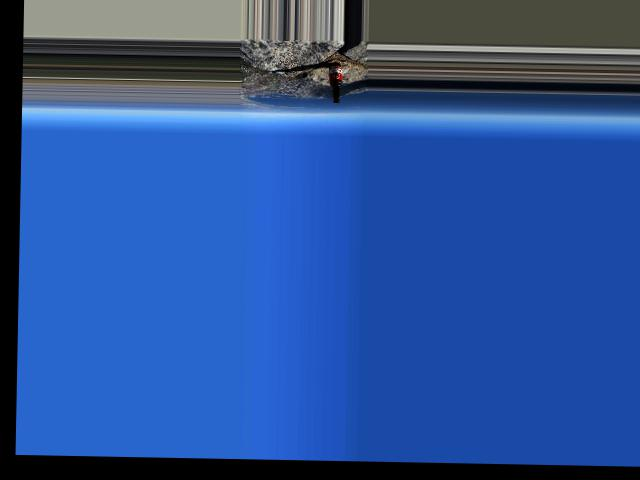beer: (328, 63, 342, 102)
